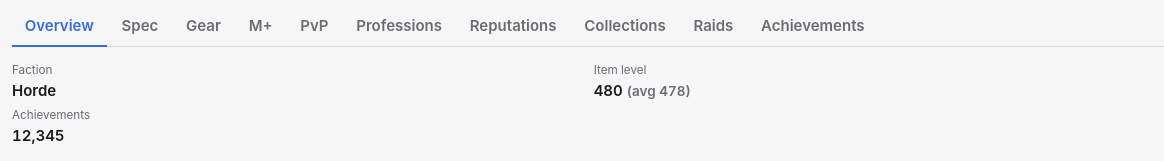
CharacterDetail › shows the empty state when there is no active specialization
The image size is (1164, 161).
Step 1. Click the tab "Spec" → click(140, 27), box 109,8 -> 171,47
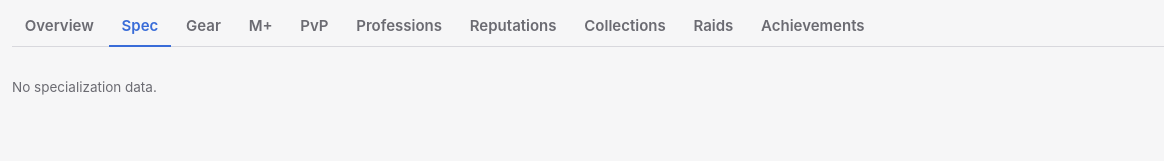
Result: the text "No specialization data." is shown at 12,77 -> 157,97
